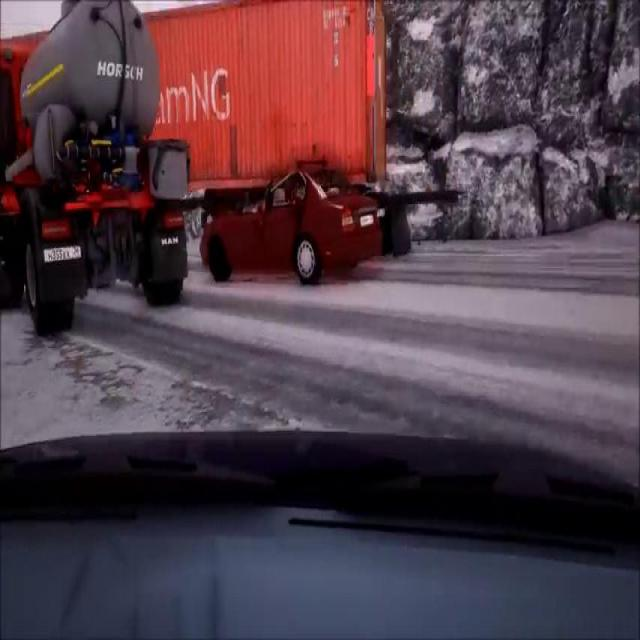accident: (0, 0, 395, 293)
